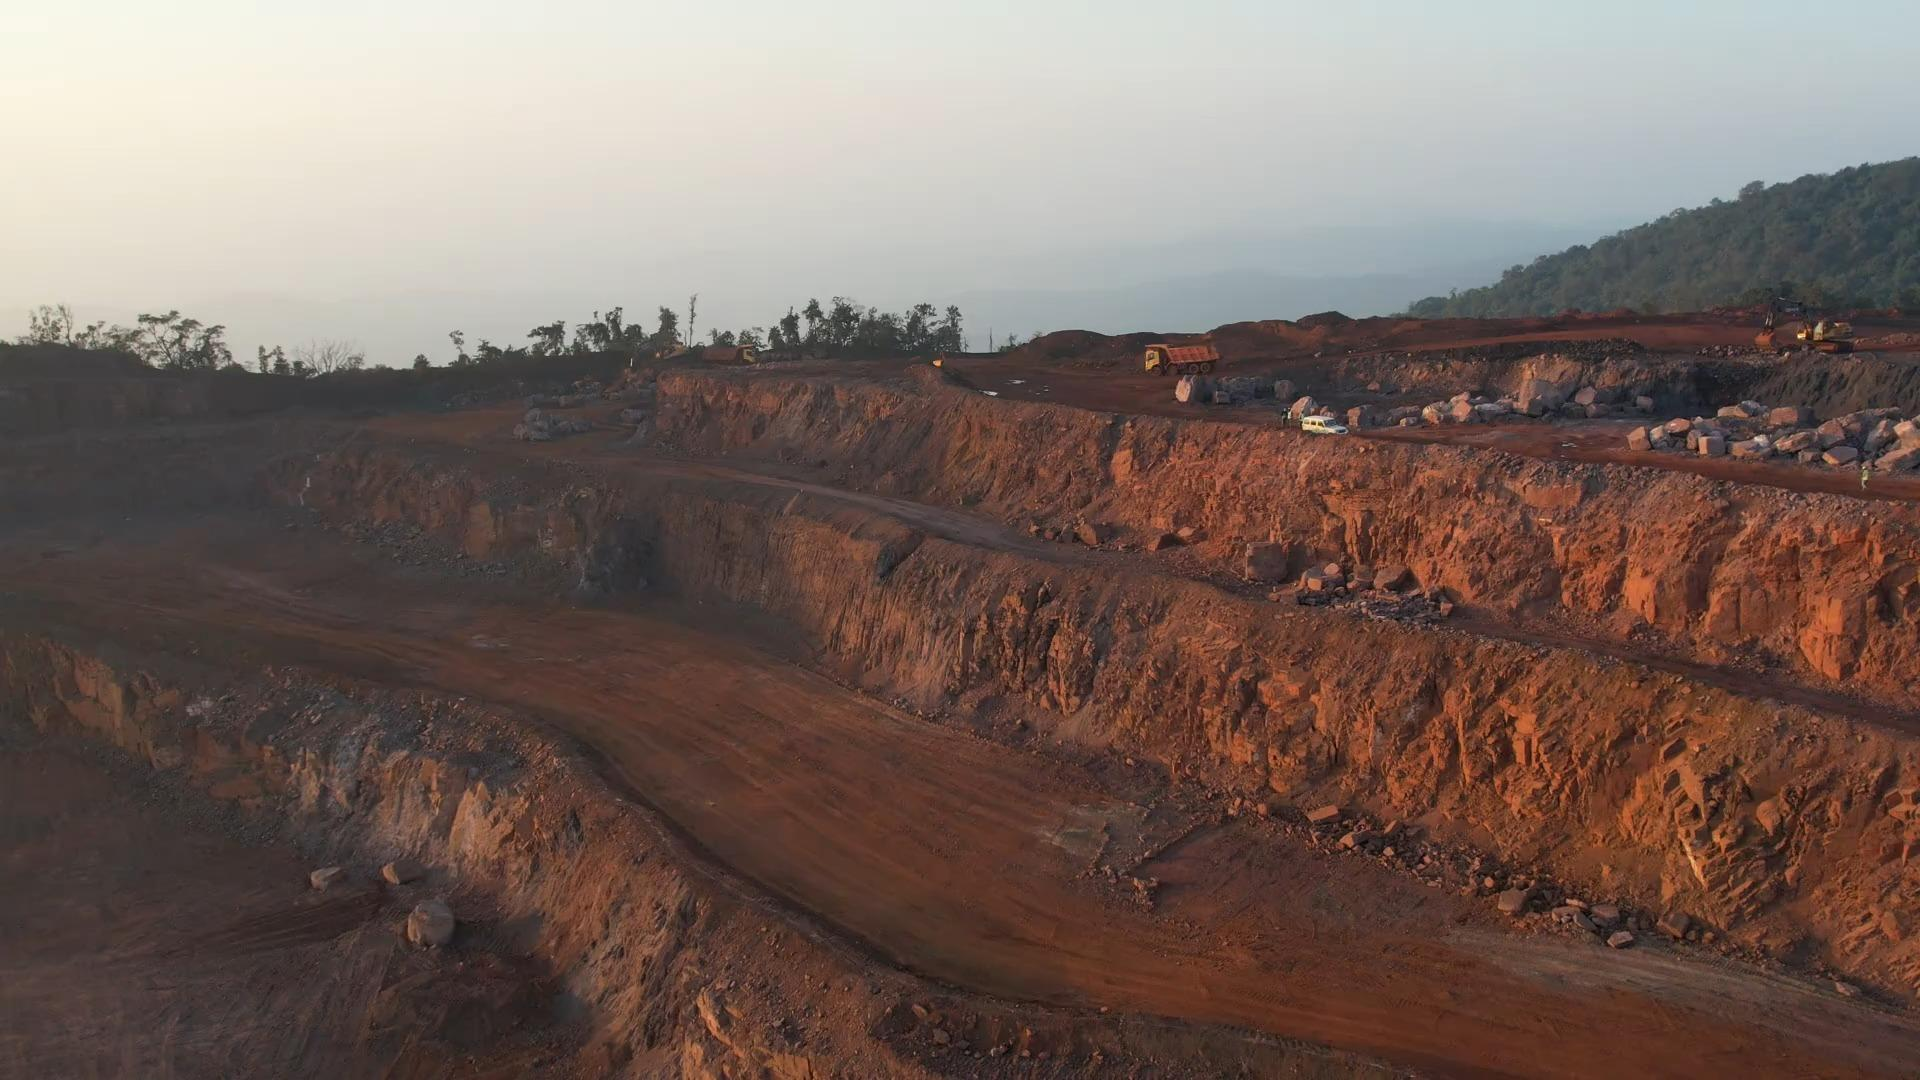excavator: (1758, 295, 1855, 355)
